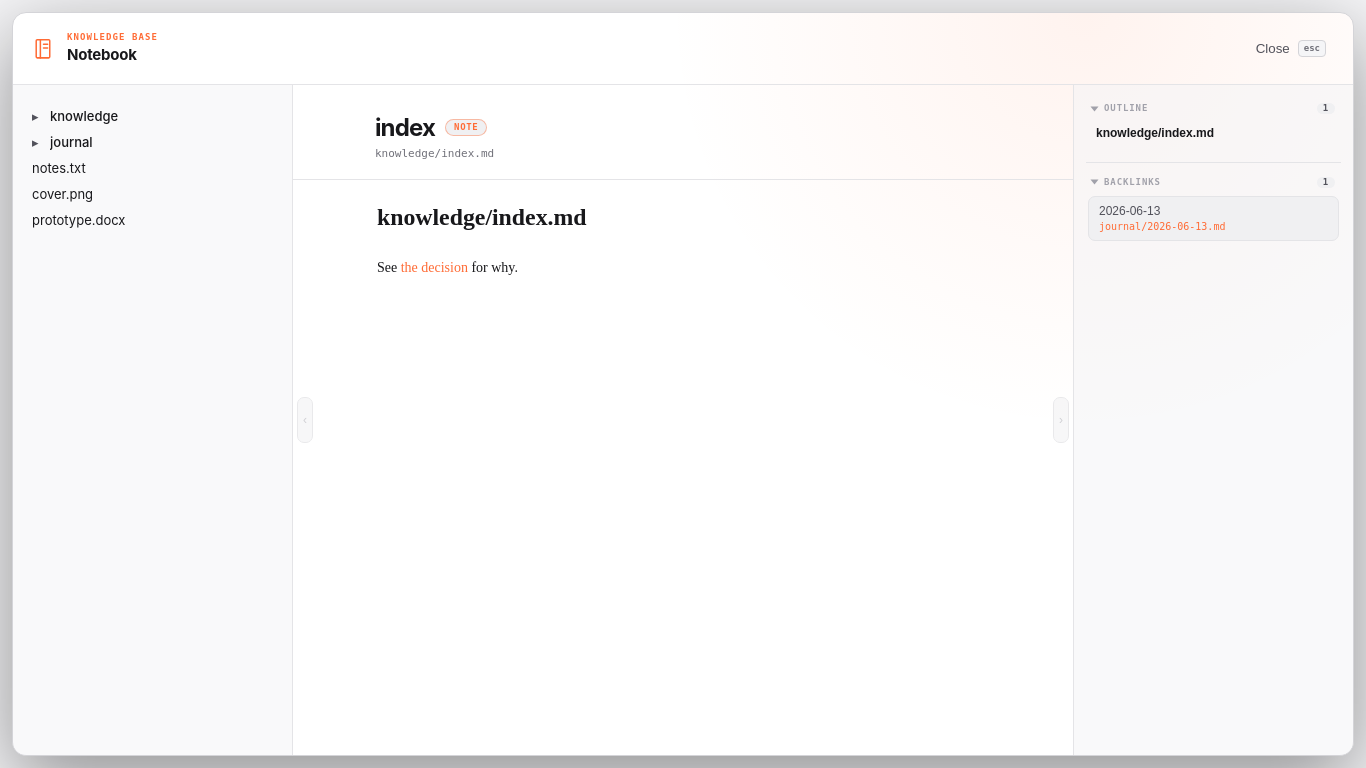
Test: NotebookBrowser › fails closed for an unknown opaque attachment without reading it
The image size is (1366, 768).
Click the list item "prototype.docx" at [152, 220], box top-left (23, 207), bottom-right (282, 233)
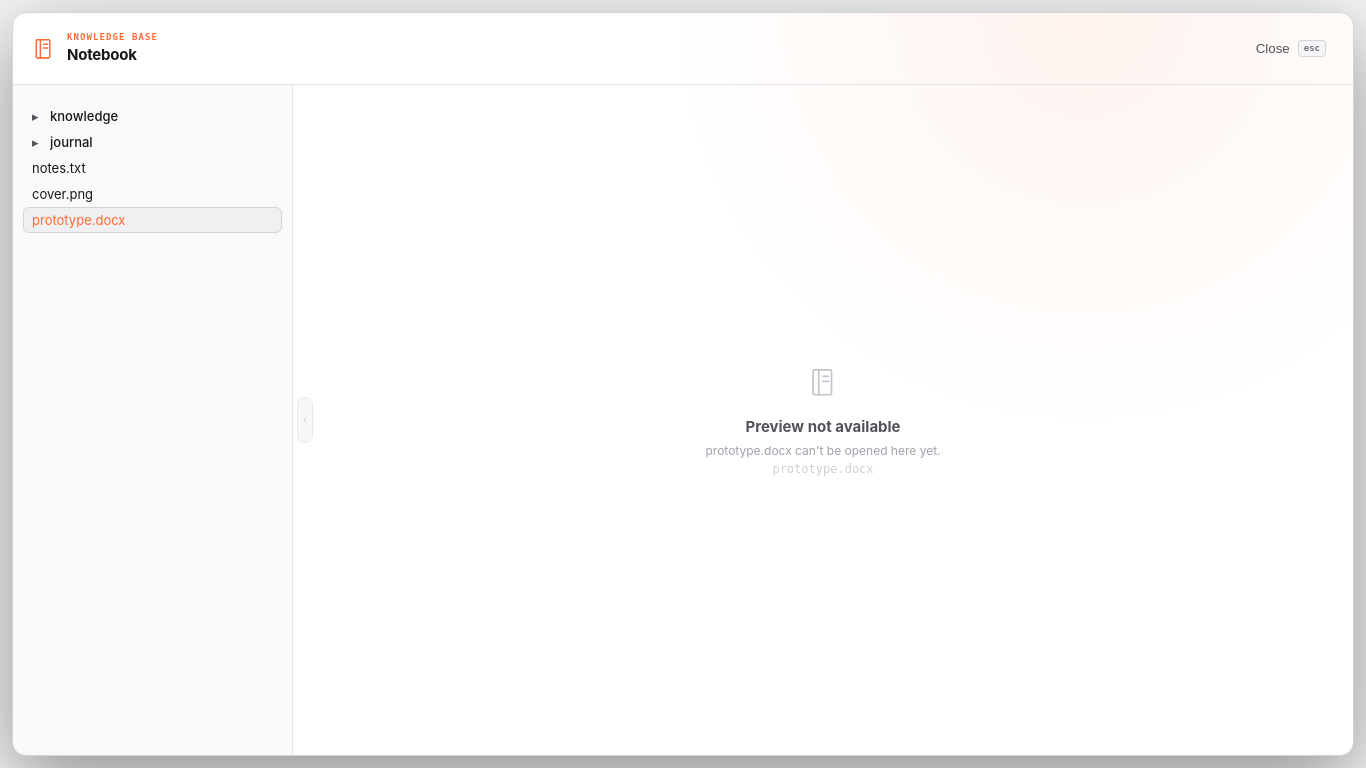
Result: the heading "Preview not available" is shown at top-left (745, 416), bottom-right (900, 436)
Result: the text "prototype.docx can't be opened here yet." is shown at top-left (706, 442), bottom-right (941, 458)
